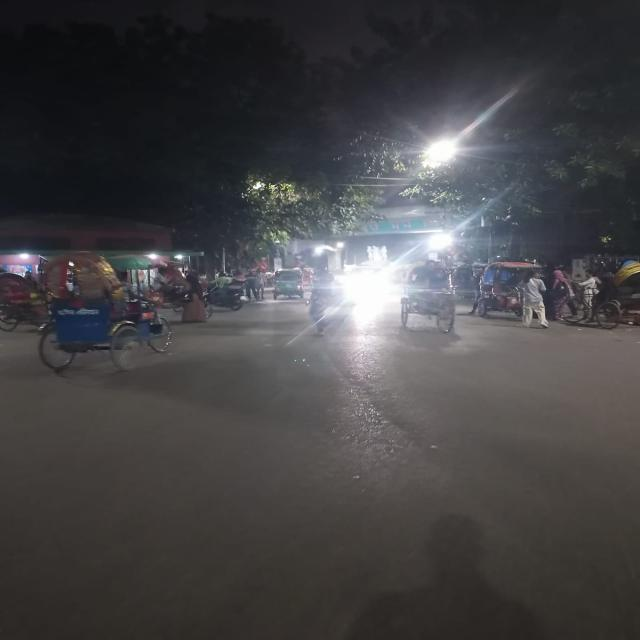person: (519, 270, 549, 328)
